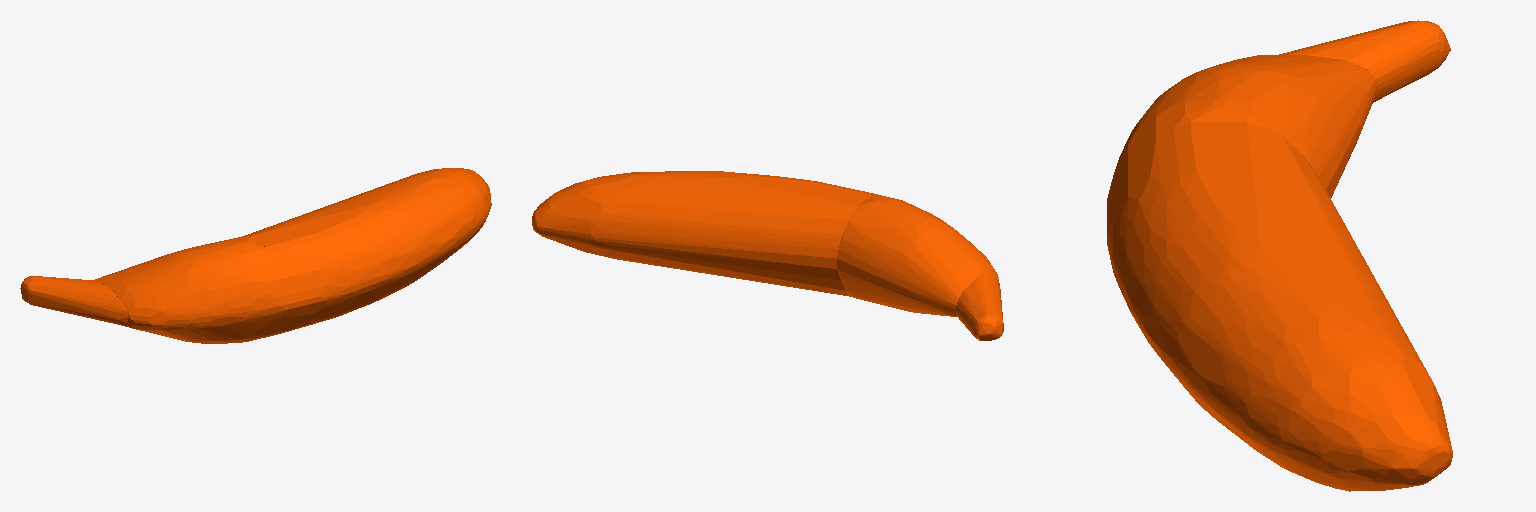
robot.urdf — Banana:
<?xml version="1.0" ?>
<robot name="Banana">
   <material name="obj_color">
      <color rgba="1.0 0.423529411765 0.0392156862745 1.0"/>
   </material>
   <link name="top">
      <inertial>
         <origin rpy="2.259892587313798e-05 0.0002035057192390236 0.0002121271539747665" xyz="0.005548523558782731 -0.002254868132892056 0.0001086290626772085"/>
         <mass value="0.1657855956536358"/>
         <inertia ixx="2.487433314982949e-05" ixy="-2.016081030140831e-05" ixz="-3.669396671442851e-08" iyy="0.0002012304042294142" iyz="2.329608510778868e-08" izz="0.0002121270617076843"/>
      </inertial>
      <visual>
         <origin rpy="0 0 0" xyz="0 0 0"/>
         <geometry>
            <mesh filename="top_watertight_tiny.obj" scale="1 1 1"/>
         </geometry>
         <material name="obj_color"/>
      </visual>
      <collision>
         <origin rpy="0 0 0" xyz="0 0 0"/>
         <geometry>
            <mesh filename="top_watertight_tiny.obj" scale="1 1 1"/>
         </geometry>
      </collision>
   </link>
</robot>

--- Facts derived from the render (not from the file) ---
Views: 3 orthographic renders of the robot side by side, from view 1: azimuth 30°, elevation 25°; view 2: azimuth 150°, elevation 25°; view 3: azimuth 270°, elevation 25°.
Robot: Banana — 1 links, 0 joints (none); root link top; default pose: all joints at 0.
Links seen in each view (by area): view 1: top; view 2: top; view 3: top.
Boxes of the visible links, x1=… form: top: x1=20, y1=168, x2=491, y2=343; top: x1=532, y1=171, x2=1003, y2=340; top: x1=1107, y1=20, x2=1452, y2=491.
Size in the robot's own frame: 0.151 by 0.051 by 0.0296 metres.
1 mesh visuals loaded from 1 distinct referenced files (1 OBJ).